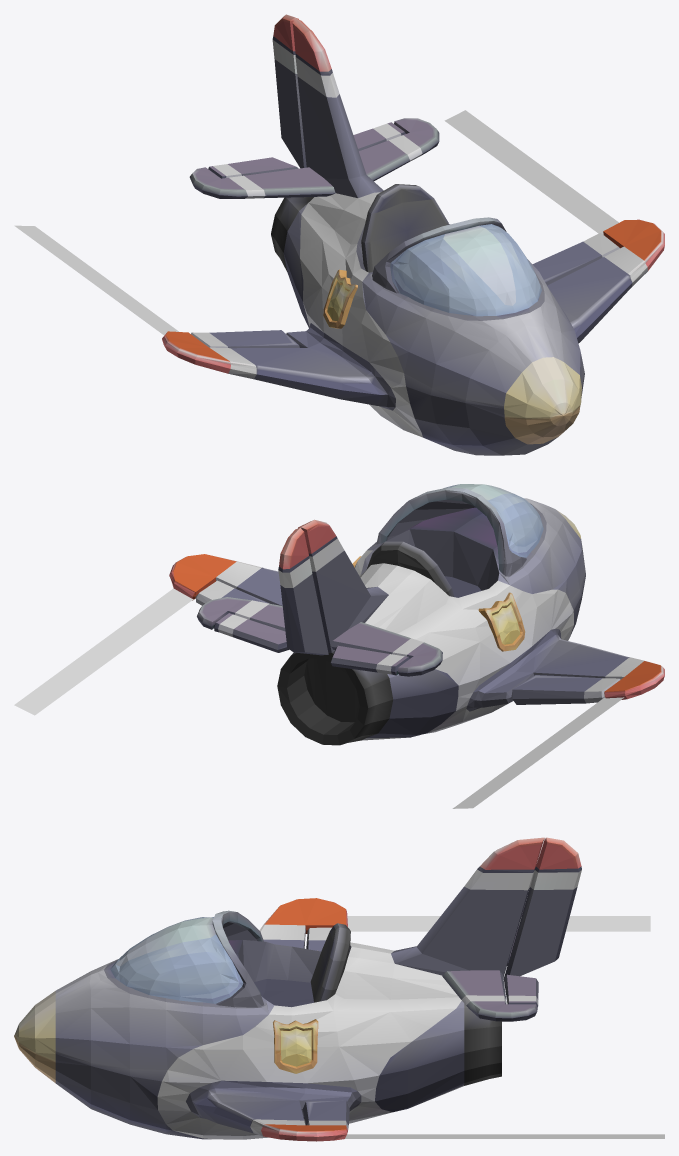
Rendered from PoliceAirplane.glb.
The picture shows the model from 3 angles, top to bottom: view 1: azimuth 30°, elevation 25°; view 2: azimuth 150°, elevation 25°; view 3: azimuth 270°, elevation 25°; orthographic projection.
Parts seen in each view (by area): view 1: airplane, Trail1, Trail2; view 2: airplane, Trail1, Trail2; view 3: airplane, Trail2, Trail1.
Boxes of the visible parts, x1,y1,x2,y2 form: airplane: [162, 14, 664, 455]; Trail1: [444, 110, 618, 234]; Trail2: [14, 225, 178, 335]; airplane: [169, 484, 664, 745]; Trail1: [14, 588, 193, 715]; Trail2: [452, 697, 624, 808]; airplane: [14, 837, 581, 1141]; Trail2: [347, 916, 650, 931]; Trail1: [345, 1134, 664, 1138].
Size of the model in its own units: 0.9649 by 0.5532 by 1.12.
